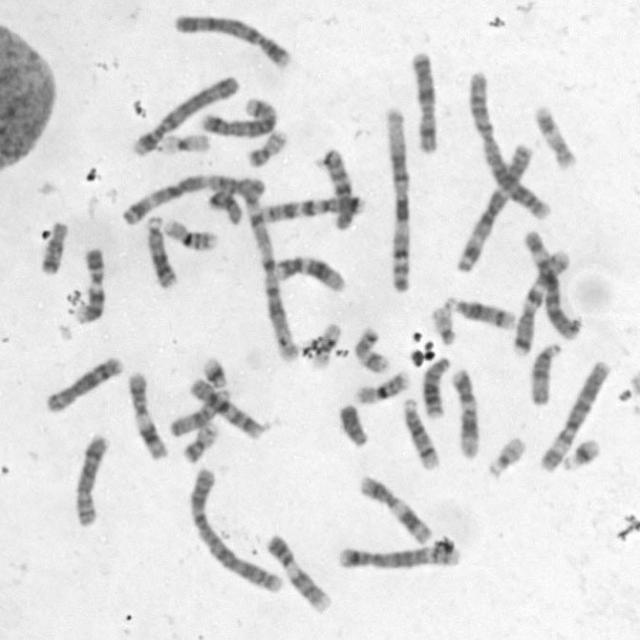A1: (242, 190, 299, 362), (381, 103, 413, 294)
A2: (465, 68, 552, 221), (185, 464, 285, 594)
A3: (452, 138, 534, 274), (116, 168, 268, 228)
B4: (128, 72, 240, 158), (169, 9, 294, 70)
B5: (334, 538, 461, 572), (199, 94, 279, 138)
C10: (186, 374, 266, 441), (319, 144, 356, 231)
C11: (354, 473, 433, 548), (124, 368, 170, 461)
C12: (269, 252, 347, 294), (447, 365, 481, 461)
C6: (535, 357, 612, 474), (520, 225, 582, 341)
C7: (508, 245, 571, 355), (251, 190, 366, 227)
C8: (42, 352, 124, 414), (70, 430, 112, 530)
C9: (264, 530, 332, 615), (74, 245, 107, 325)
D13: (141, 212, 178, 288), (418, 353, 451, 420)
D14: (399, 394, 442, 472), (446, 293, 517, 332)
D15: (166, 382, 232, 438), (525, 339, 563, 407)
E16: (351, 367, 412, 406), (160, 215, 218, 252)
E17: (532, 100, 578, 172), (352, 325, 392, 375)
E18: (37, 217, 70, 275), (204, 186, 243, 227)
F19: (308, 319, 343, 367), (155, 128, 212, 156)
F20: (243, 125, 290, 168), (180, 418, 220, 464)
G21: (558, 433, 603, 472), (199, 353, 229, 389)
G22: (484, 432, 528, 479), (428, 303, 457, 346)
X: (408, 48, 440, 156)
Y: (336, 399, 371, 448)
